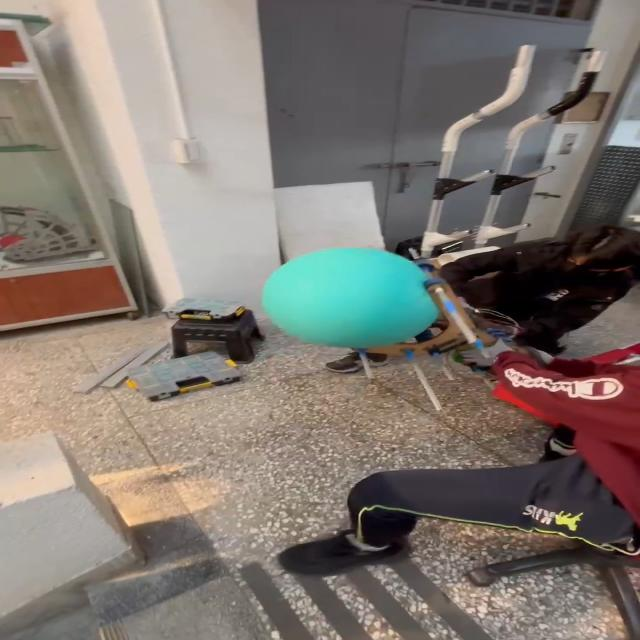ALGAE: (259, 246, 441, 350)
